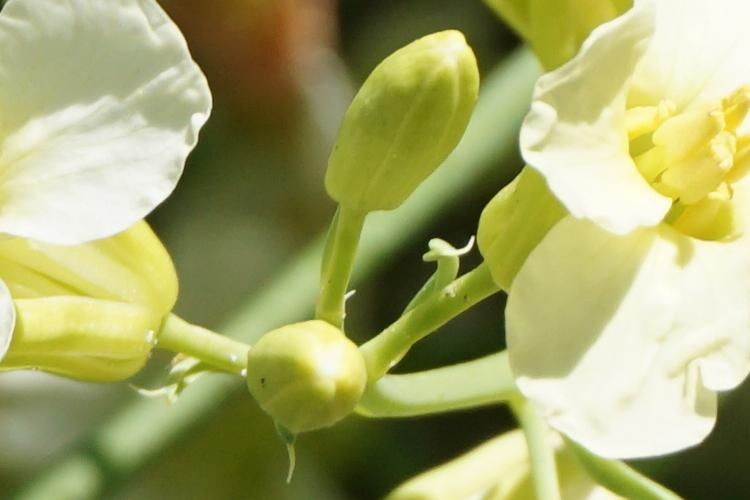bud: (296, 38, 499, 207), (205, 309, 383, 440)
white: (515, 45, 750, 463), (6, 1, 203, 383)
